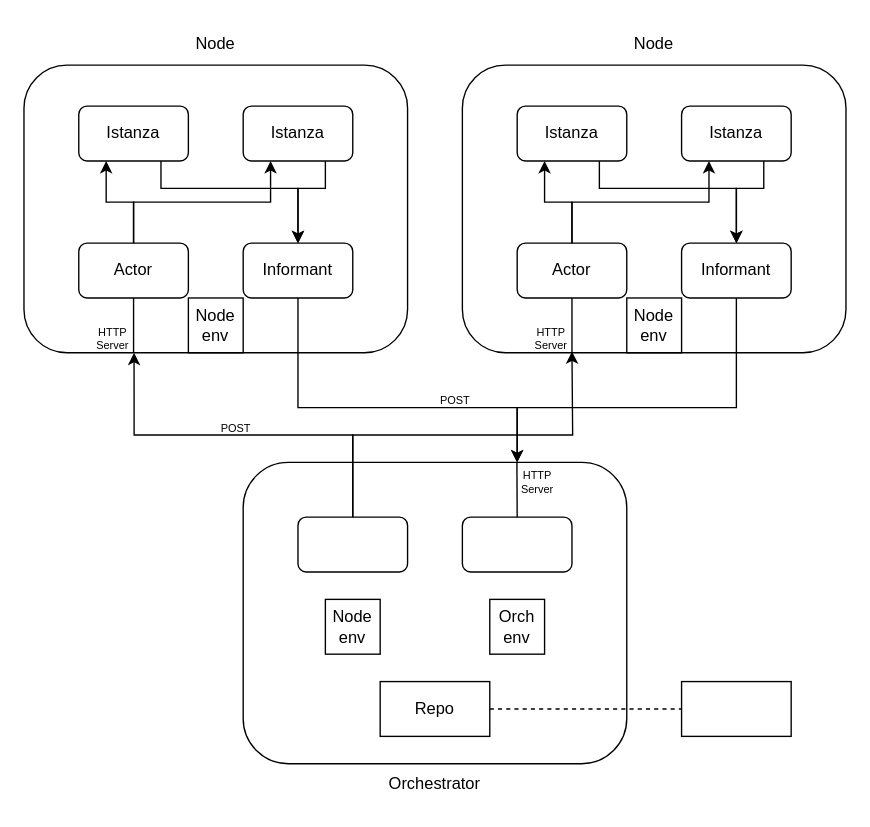
This 870x827 diagram has some shape labels left out. The centre of each missing label's shape, as x and y in pixels:
Controller: point (352, 544)
Github: point (735, 708)
Processor: point (516, 544)
